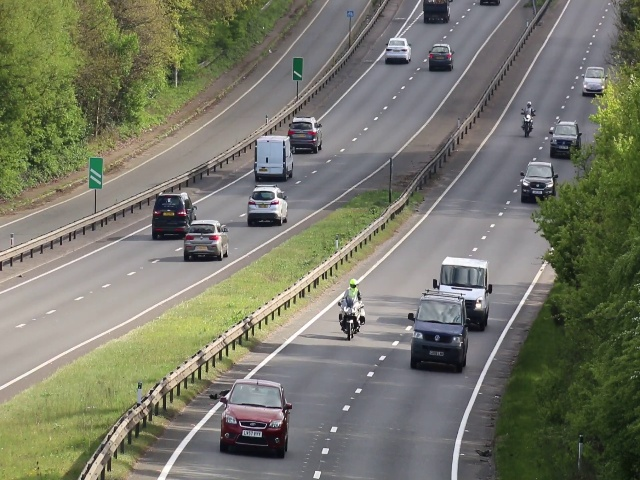car: (222, 380, 286, 454), (411, 294, 465, 369), (253, 139, 295, 182), (185, 220, 227, 260), (154, 192, 186, 239), (248, 186, 286, 224), (440, 263, 485, 294), (520, 163, 555, 201), (550, 120, 579, 159), (291, 116, 323, 147), (428, 44, 453, 71), (387, 35, 410, 63), (584, 65, 604, 94)
